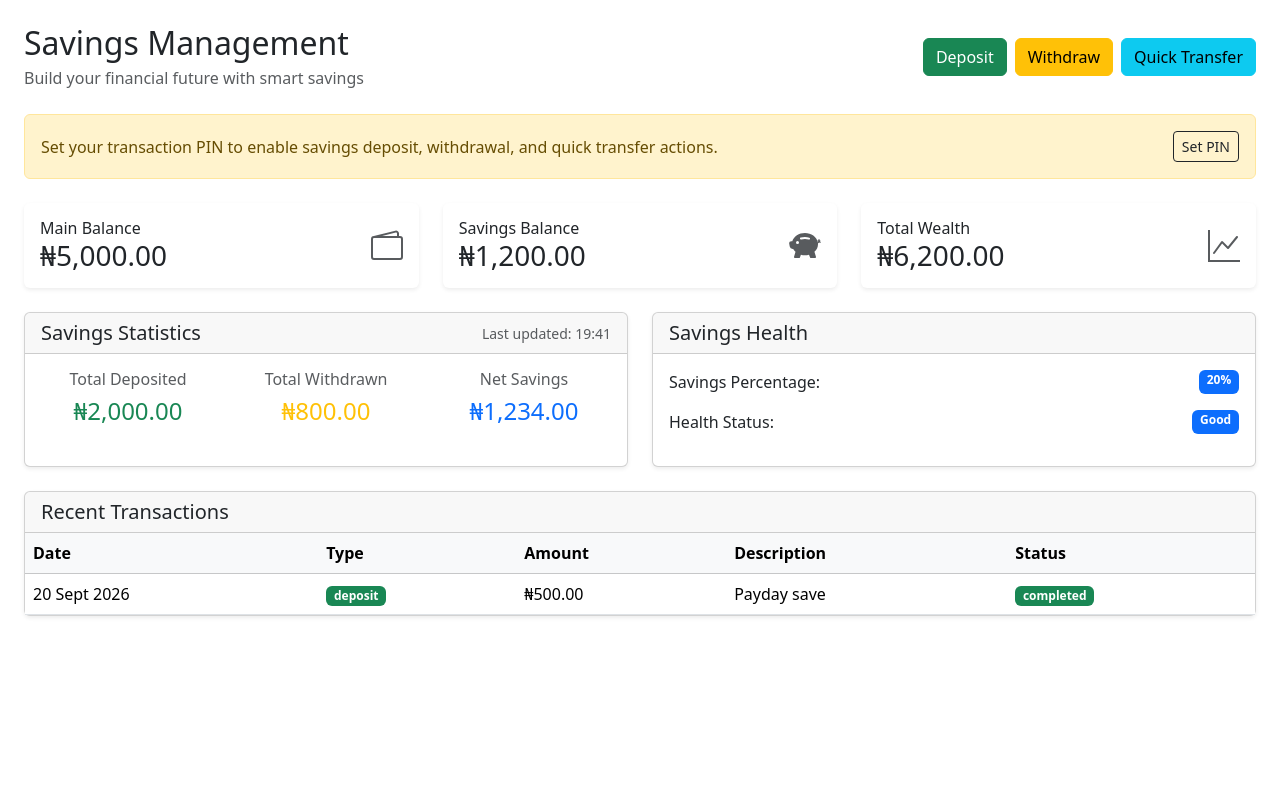
it: SavingsManagement › shows the PIN guard instead of a modal when no transaction PIN is set
Expected: the text "Payday save" is shown, [726,574,1007,615]
Click the button "Deposit" at (965, 57), box [923,38,1007,76]
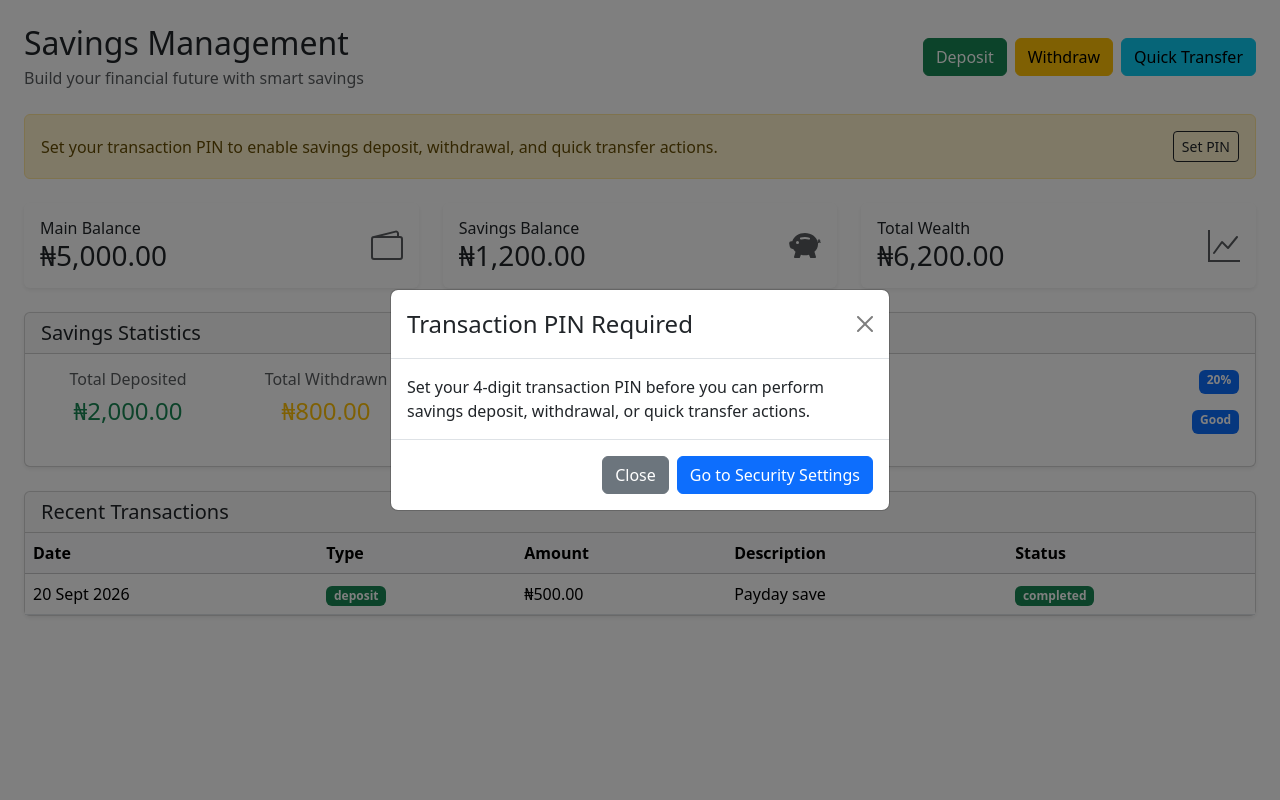
Result: the text "Transaction PIN Required" is shown at [407,306,693,342]
